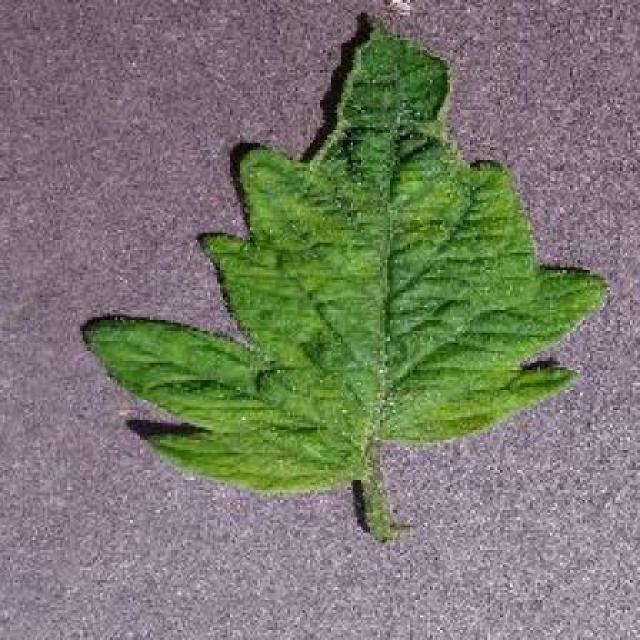Mosaic Virus: (76, 12, 615, 494)
